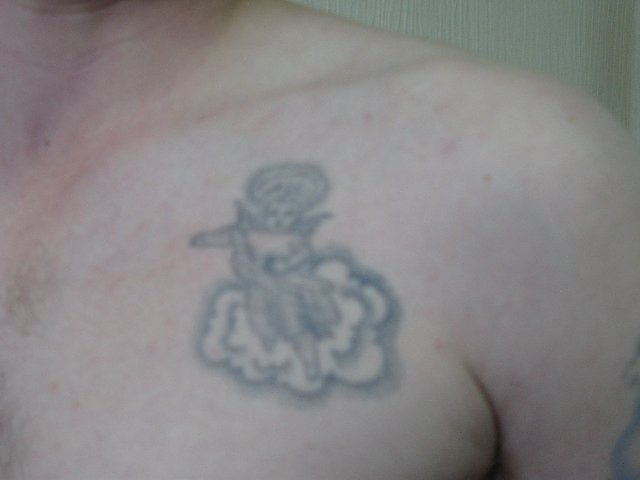tatu1_angel: (186, 142, 404, 393)
